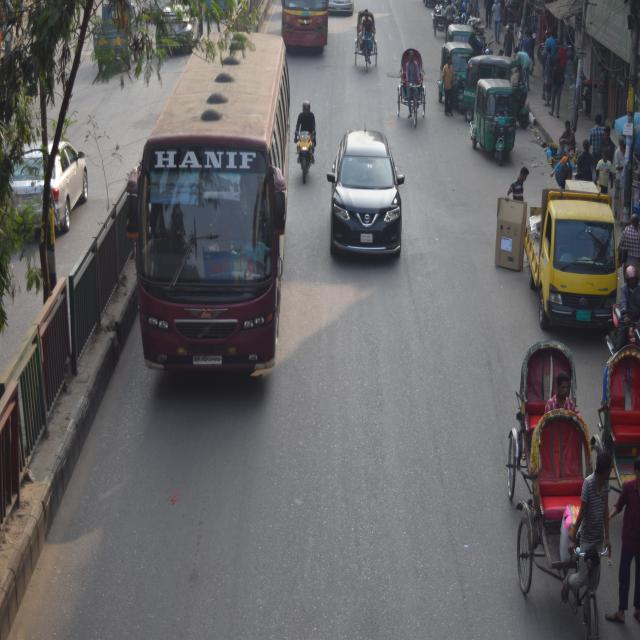bus: (140, 31, 292, 376), (282, 0, 330, 50)
car: (7, 118, 92, 244), (330, 130, 404, 272)
motorbike: (291, 110, 319, 188)
pickup-van: (515, 170, 618, 340)
